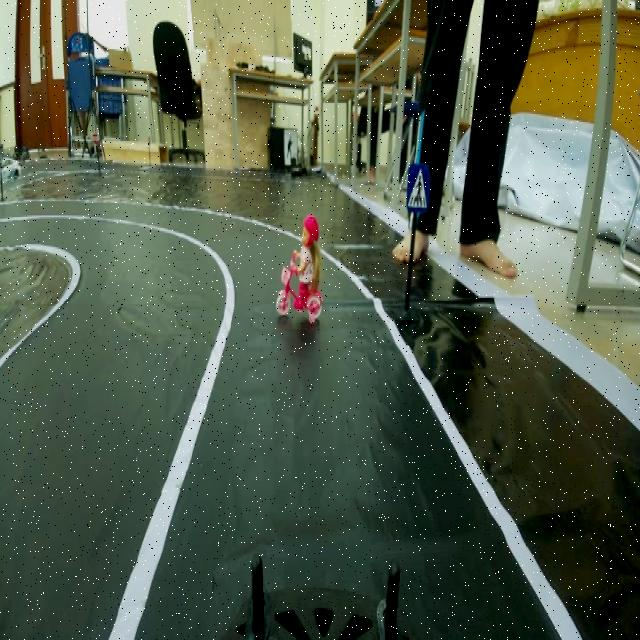crosswalk: (402, 162, 434, 216)
pedestrian: (272, 220, 331, 325)
